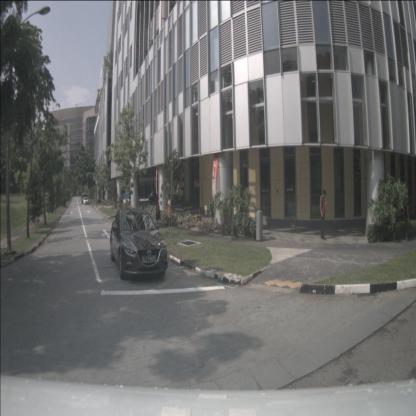human-pedestrian-adult: (320, 190, 328, 240), (404, 195, 411, 240), (165, 194, 172, 227), (156, 197, 160, 228)
vehicle-car: (110, 208, 168, 280), (149, 189, 164, 205), (83, 196, 89, 205)
vehicle-truck: (81, 193, 88, 204)
